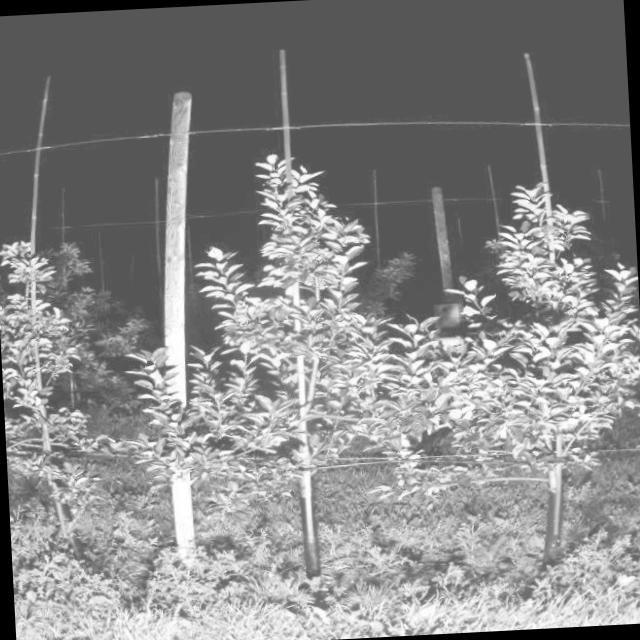Tree: (413, 181, 640, 552), (220, 152, 379, 556), (0, 234, 73, 546)
